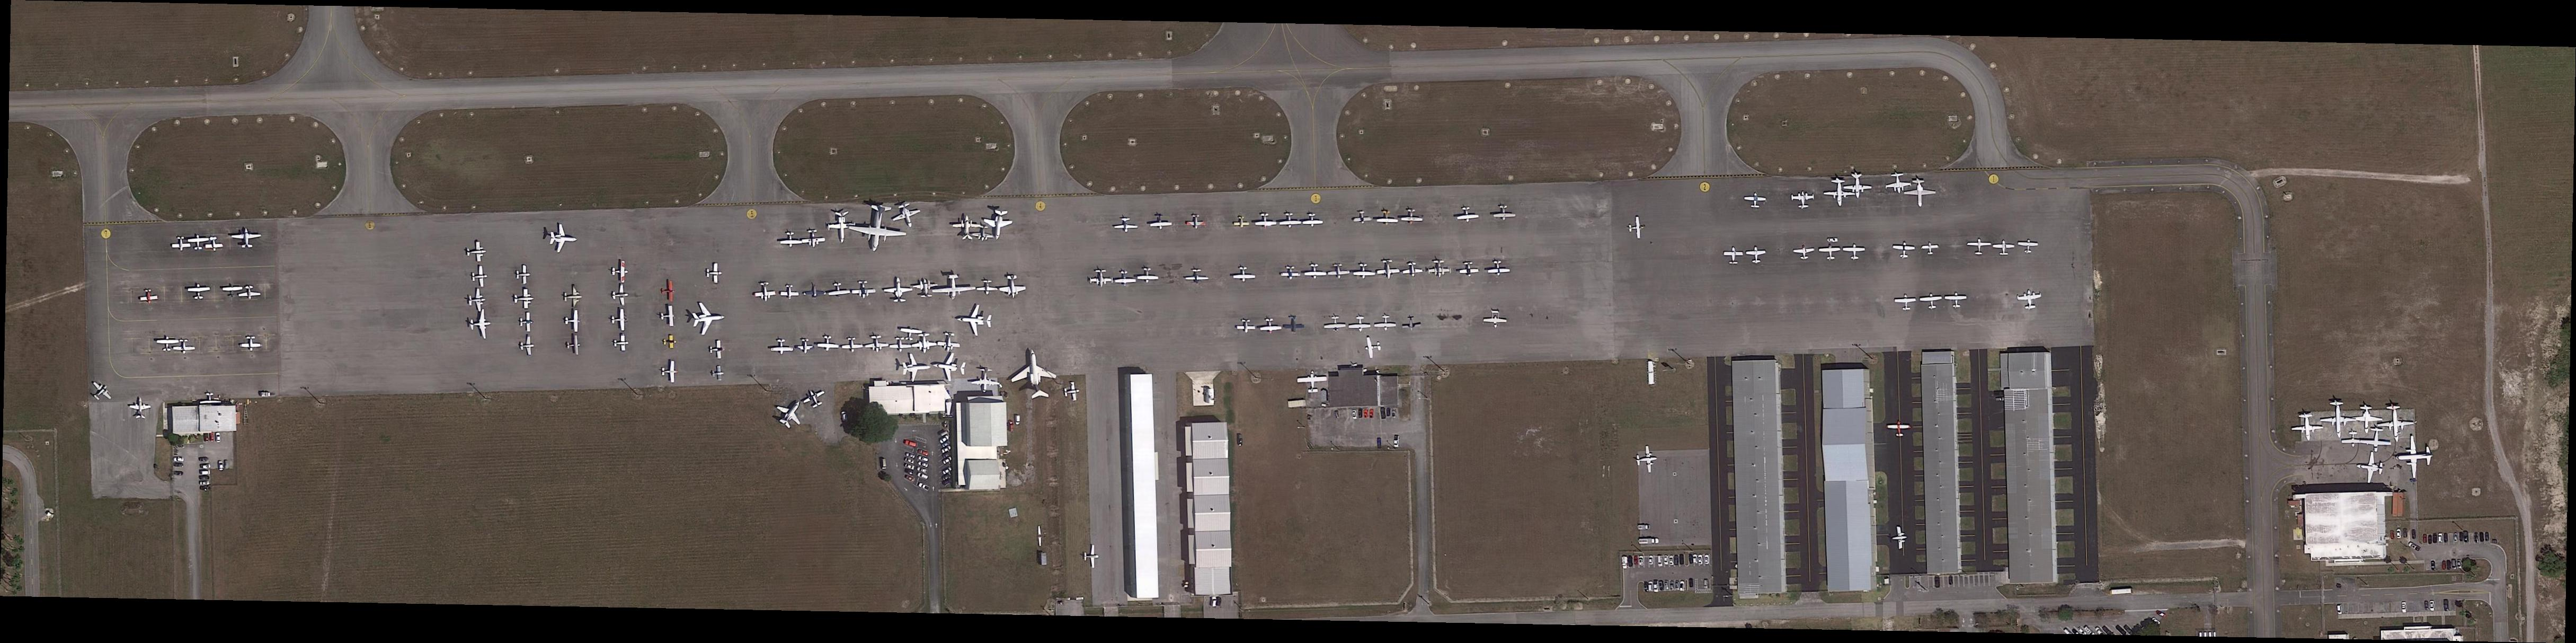plane: (846, 201, 910, 257), (1010, 347, 1060, 401), (2394, 434, 2435, 482), (2376, 403, 2415, 444), (771, 393, 810, 433), (2320, 400, 2356, 439), (930, 349, 968, 383), (956, 303, 994, 337), (930, 273, 976, 301), (692, 299, 726, 335), (889, 201, 925, 234), (982, 209, 1014, 242), (900, 352, 933, 383), (1904, 179, 1937, 209), (1824, 178, 1856, 207), (2356, 451, 2385, 483), (2351, 405, 2384, 434), (2290, 413, 2323, 442), (549, 224, 578, 255), (826, 212, 856, 243), (2359, 428, 2392, 456), (969, 367, 1002, 395), (87, 378, 117, 406), (1843, 173, 1873, 199), (800, 385, 830, 411), (951, 215, 981, 240), (884, 278, 913, 303), (1296, 370, 1327, 393), (999, 275, 1027, 299), (232, 227, 261, 250), (470, 309, 491, 340), (1635, 446, 1658, 474), (1884, 171, 1912, 194), (2016, 288, 2042, 311), (910, 332, 938, 354), (936, 331, 961, 354), (1377, 258, 1400, 281), (851, 280, 876, 301), (912, 278, 938, 298), (1362, 335, 1382, 360), (802, 229, 826, 248), (864, 334, 889, 354), (1791, 191, 1815, 210), (130, 398, 151, 419), (754, 281, 775, 303), (467, 242, 488, 263), (1626, 217, 1646, 240), (828, 281, 851, 301), (1842, 243, 1866, 261), (1089, 270, 1114, 288), (468, 288, 486, 312), (1967, 238, 1991, 257), (1428, 260, 1452, 278), (1484, 311, 1508, 329), (1457, 206, 1480, 224), (1919, 293, 1942, 311), (971, 225, 994, 243), (803, 281, 826, 299), (611, 284, 629, 308), (841, 335, 864, 354), (1349, 314, 1372, 332), (1893, 242, 1916, 260), (1743, 192, 1768, 209), (1232, 266, 1257, 283), (1891, 526, 1907, 551), (1114, 217, 1139, 234), (563, 288, 583, 308), (514, 289, 534, 309), (1745, 247, 1766, 265), (1283, 316, 1304, 334), (1401, 261, 1423, 280), (1945, 291, 1967, 309), (611, 261, 629, 283), (563, 311, 582, 332), (1150, 214, 1171, 232), (1373, 314, 1396, 331), (1401, 209, 1424, 225), (1377, 210, 1400, 227), (1792, 245, 1815, 261), (780, 232, 803, 248), (238, 284, 261, 301), (472, 266, 488, 289), (240, 335, 263, 352), (156, 335, 179, 352), (771, 339, 793, 355), (900, 326, 923, 342), (817, 335, 840, 352), (1114, 270, 1137, 286), (1327, 263, 1350, 280), (1894, 294, 1917, 311), (1819, 245, 1842, 261), (2341, 431, 2364, 447), (1886, 423, 1911, 437), (1184, 268, 1209, 283), (1084, 544, 1099, 569), (1723, 247, 1743, 265), (1324, 316, 1345, 332), (1260, 317, 1281, 334), (1488, 260, 1510, 276), (1459, 261, 1480, 278), (1280, 212, 1301, 229), (706, 263, 723, 284), (662, 362, 679, 383), (1255, 212, 1277, 229), (660, 306, 677, 327), (611, 309, 628, 331), (565, 335, 582, 357), (519, 335, 536, 357), (1065, 382, 1081, 403), (976, 280, 997, 296), (2017, 238, 2039, 255), (1993, 240, 2014, 257), (1401, 316, 1423, 332), (1493, 206, 1516, 220), (173, 340, 196, 355), (187, 284, 210, 299), (889, 337, 912, 352), (1304, 265, 1327, 280), (1280, 265, 1300, 281), (1186, 214, 1206, 230), (1354, 263, 1375, 278), (1303, 214, 1324, 229), (519, 311, 534, 332), (660, 280, 675, 301), (187, 235, 209, 250), (1137, 268, 1158, 283), (140, 289, 158, 306), (710, 340, 724, 360), (516, 265, 531, 284), (204, 237, 223, 252), (1921, 242, 1940, 257), (171, 237, 191, 252), (1237, 319, 1255, 334), (1354, 210, 1372, 225), (780, 284, 798, 299), (222, 286, 243, 298), (614, 335, 629, 352), (798, 339, 813, 354), (1232, 217, 1249, 230), (711, 365, 724, 382), (662, 335, 677, 349)
